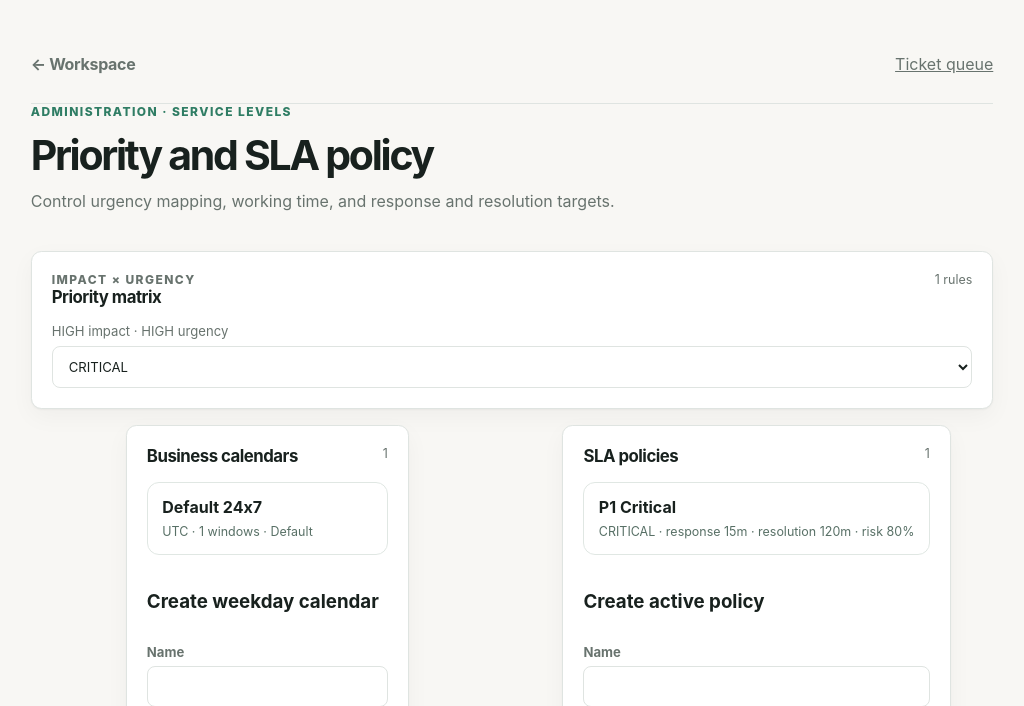
Test case: shows SLA configuration and saves a priority rule
The image size is (1024, 706).
Expected: the heading "Priority and SLA policy" is shown, top-left (31, 130), bottom-right (433, 180)
Expected: the text "P1 Critical" is shown, top-left (599, 497), bottom-right (676, 517)
Select "HIGH" in the dropdown labelled "HIGH impact · HIGH urgency": x=512, y=367 top-left (52, 346), bottom-right (972, 388)
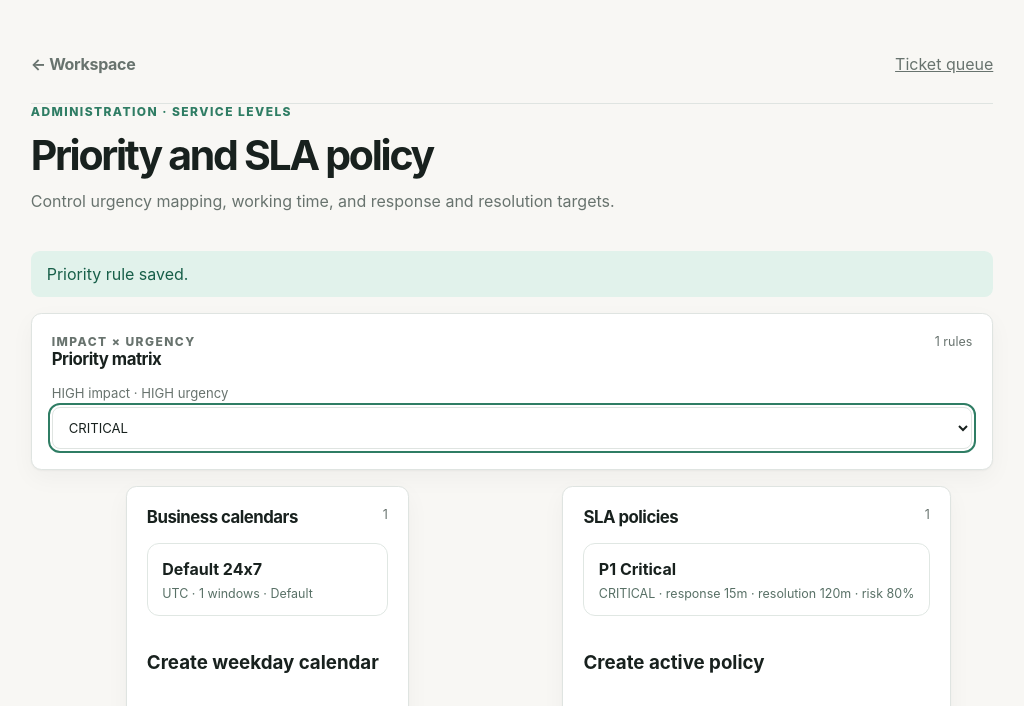
Expected: the text "Priority rule saved." is shown, top-left (31, 251), bottom-right (993, 297)
